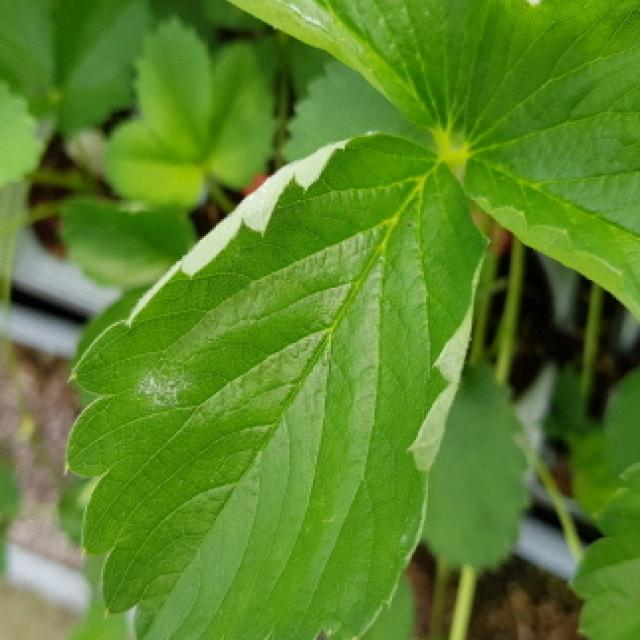Powdery Mildew Leaf: (63, 130, 490, 640)
